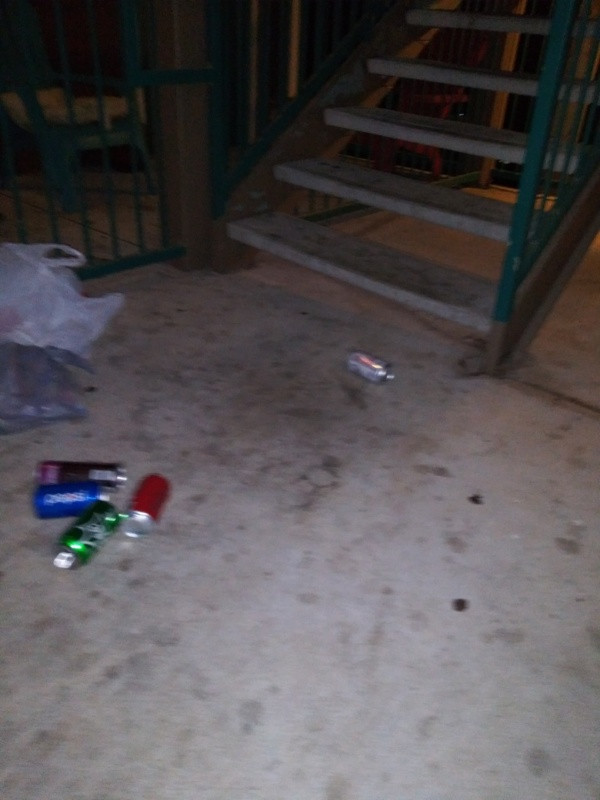can: (49, 499, 125, 577), (119, 472, 176, 542), (31, 480, 111, 520), (30, 458, 131, 489), (343, 347, 394, 386)
